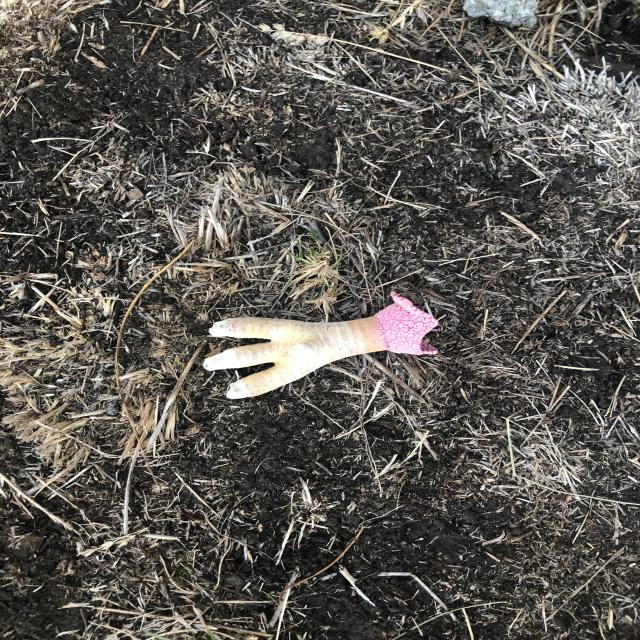litter: (205, 296, 432, 398)
